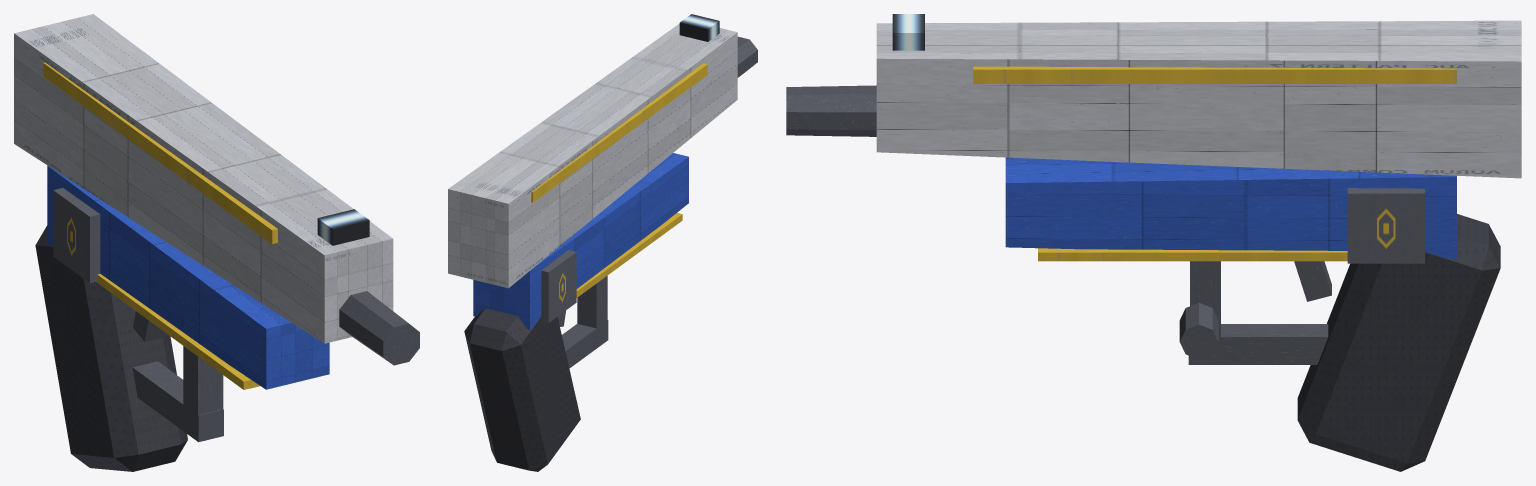
Rendered from auc_pistol.obj.
3 renders of one model, left to right at view 1: azimuth 30°, elevation 25°; view 2: azimuth 150°, elevation 25°; view 3: azimuth 270°, elevation 25°, orthographic. The views are drawn at different scales.
Parts seen in each view (by area): view 1: auc_pistol; view 2: auc_pistol; view 3: auc_pistol.
Part boxes in pixels (x1,y1,x2,y2): auc_pistol: [14, 14, 419, 471]; auc_pistol: [448, 14, 757, 471]; auc_pistol: [786, 14, 1521, 471].
Size of the model in its own units: 0.0475 by 0.1497 by 0.228.
Materials: 1 (1 with a texture image).
